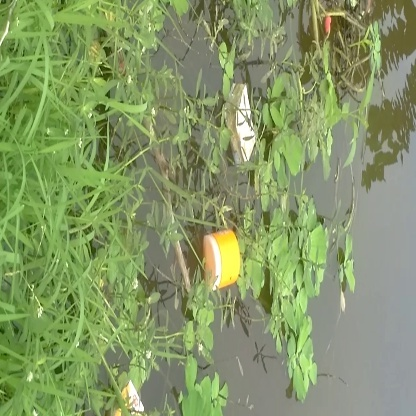bottle: (200, 222, 251, 299)
milk-box: (221, 80, 267, 163)
